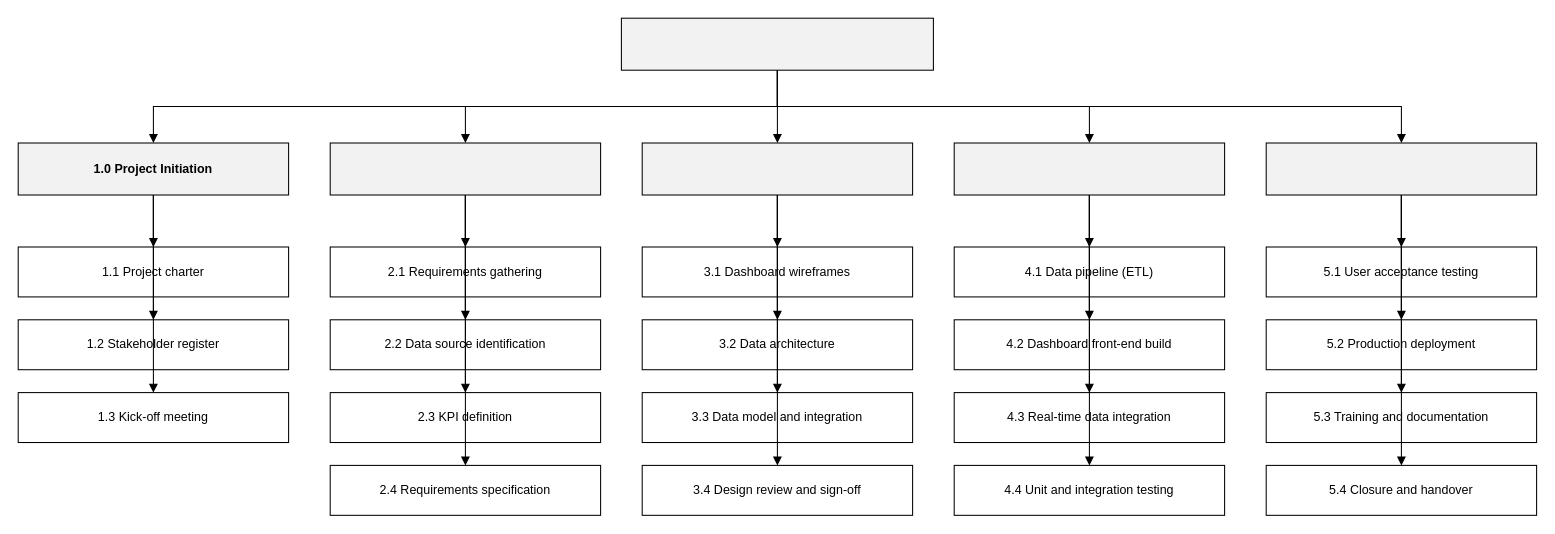
The diagram is 1555 pixels wide and 534 high, and some of its shapes have lost their labels. Here are the shapes that lost their labels. From the top down, the centre of each, then its label:
(776,43): Insight360 Data Analytics Dashboard
(465,168): 2.0 Requirements and Analysis
(777,168): 3.0 Design
(1089,168): 4.0 Development
(1401,168): 5.0 Deployment and Closure
